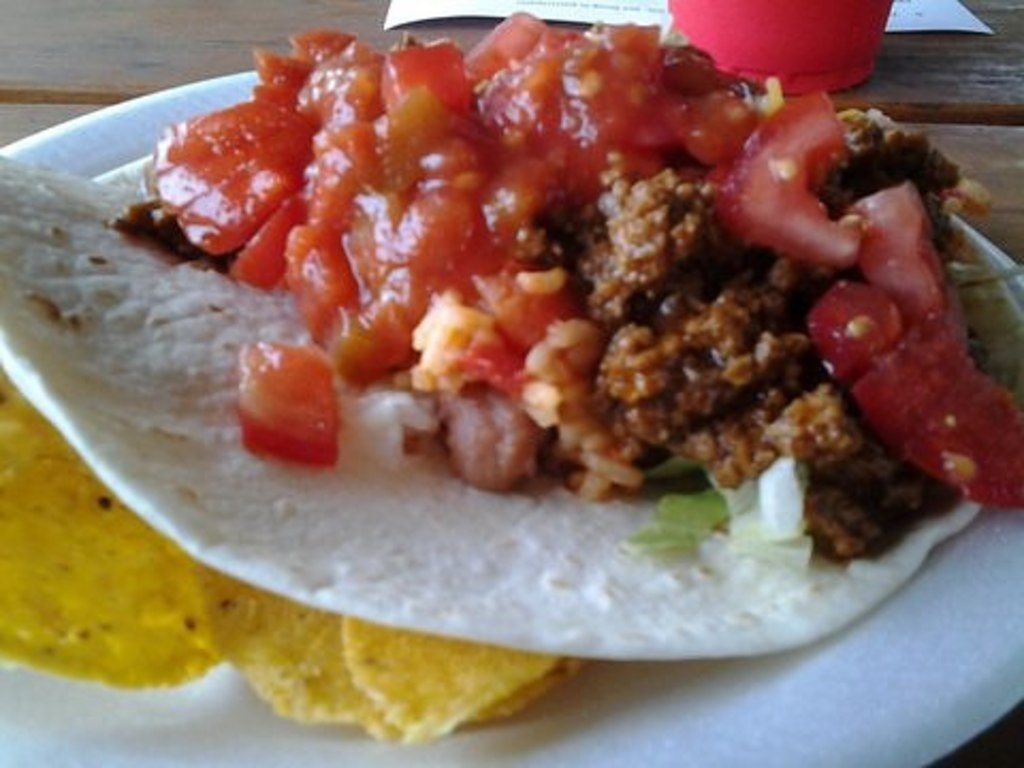taco: (0, 6, 1022, 661)
